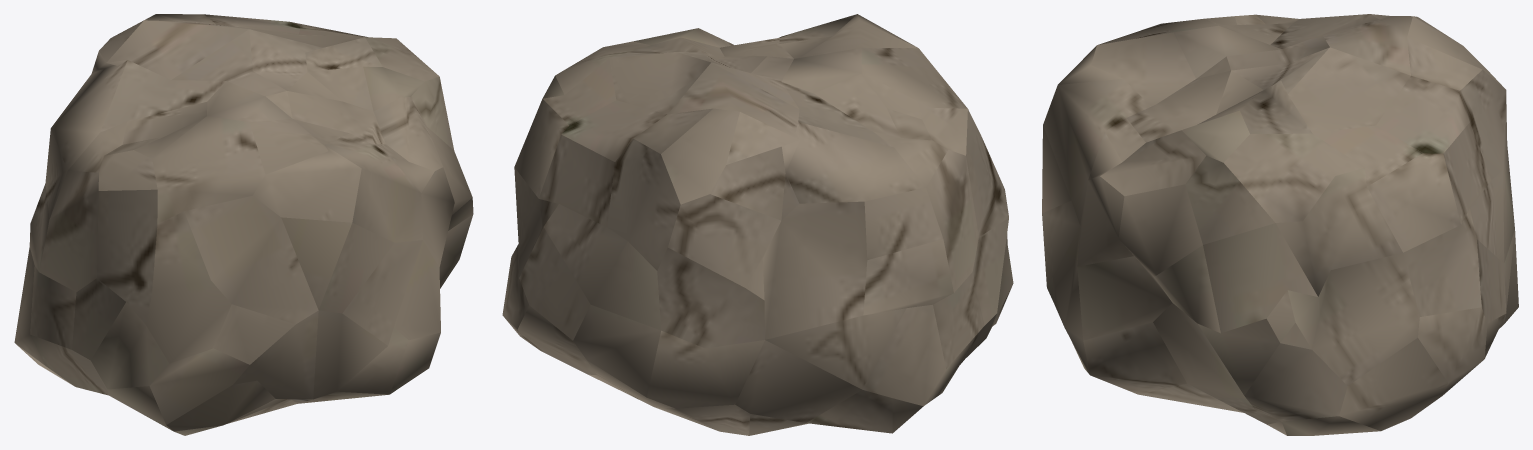
The model's file is RockSmall.lod1.glb.
3 views of the same model, side by side, from view 1: azimuth 30°, elevation 25°; view 2: azimuth 150°, elevation 25°; view 3: azimuth 270°, elevation 25° (orthographic). The views are drawn at different scales.
Bounding box in the file's own units: 0.5891 × 0.45 × 0.5681.
1 material, 1 textured.
